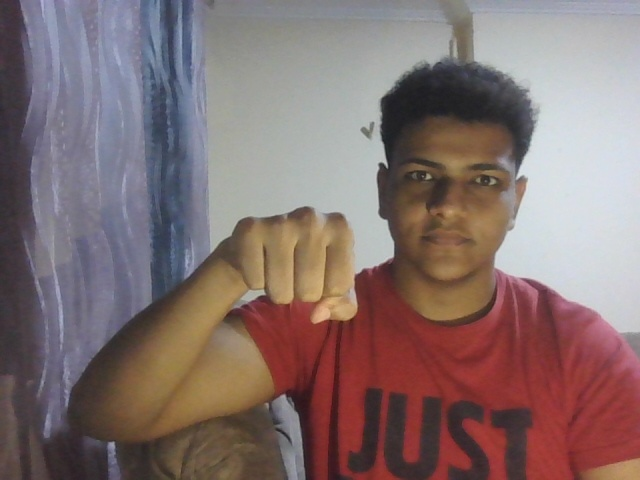yes: (220, 176, 368, 351)
